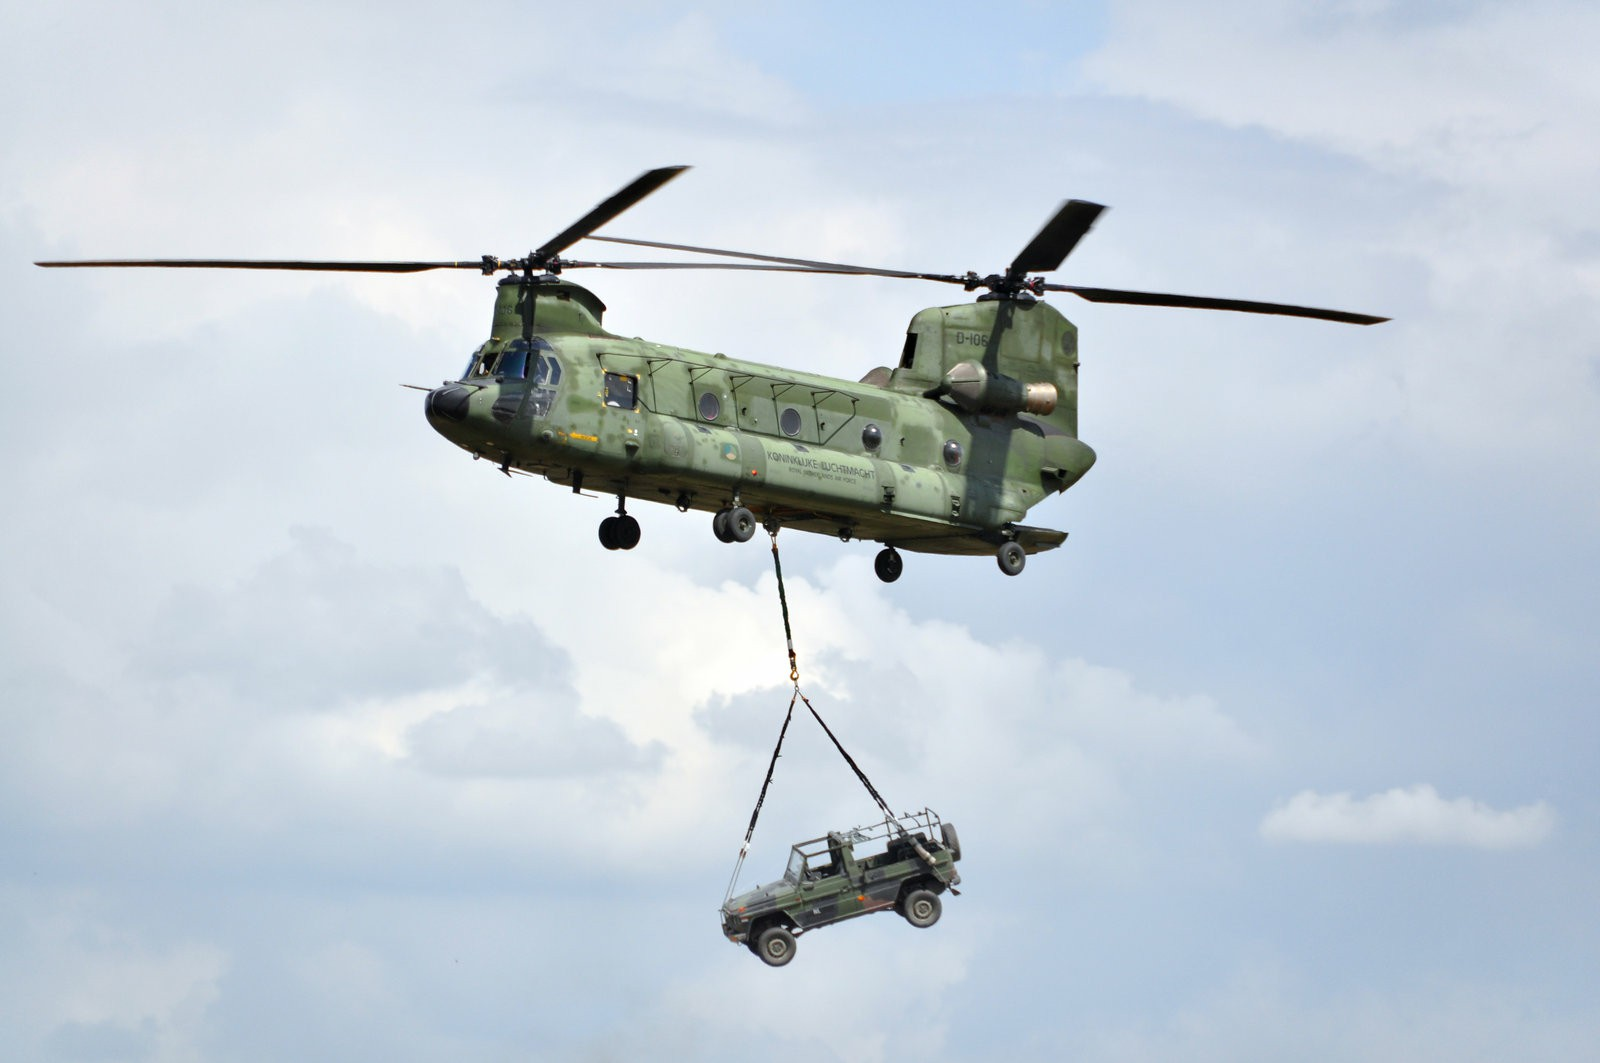chinook: (218, 158, 1395, 571)
